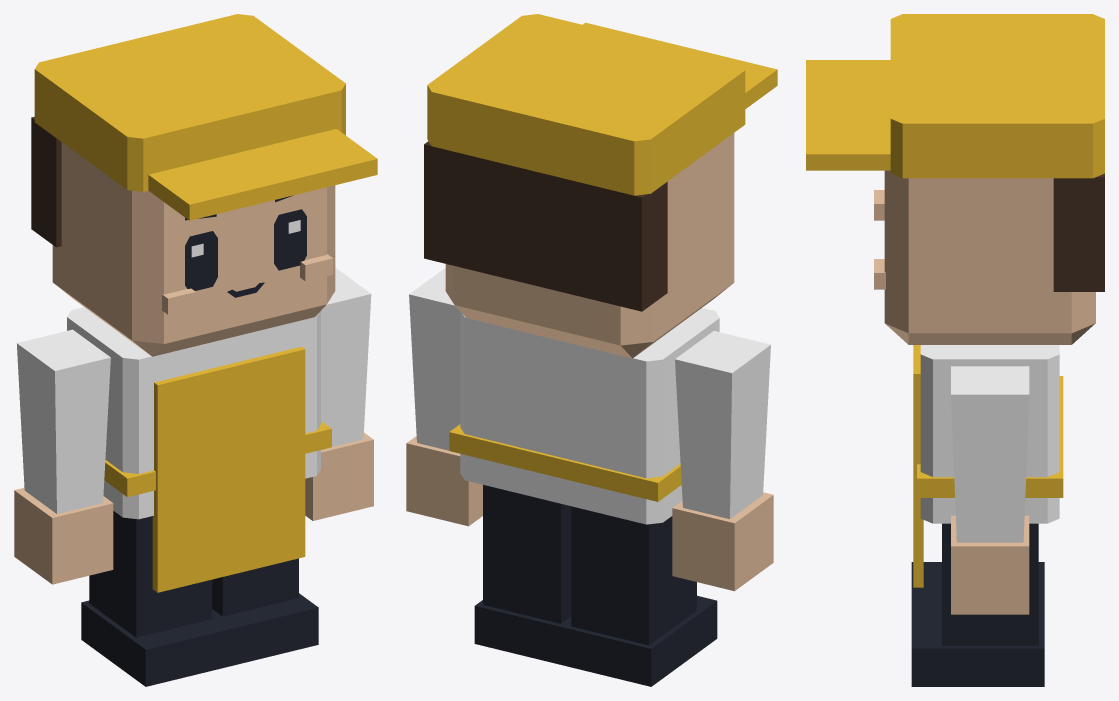
File: staff-barista.glb
The picture shows the model from 3 angles, left to right: view 1: azimuth 30°, elevation 25°; view 2: azimuth 150°, elevation 25°; view 3: azimuth 270°, elevation 25°; orthographic projection. The views are drawn at different scales.
Parts seen in each view (by area): view 1: hair, body, head, arm_R, leg_R, shoe_R, hand_R, arm_L, face, shoe_L, hand_L, leg_L; view 2: hair, body, head, arm_R, leg_R, leg_L, arm_L, hand_R, shoe_R, hand_L, shoe_L; view 3: hair, head, body, arm_L, shoe_L, hand_L, leg_L, shoe_R, face.
Part boxes in pixels (bbox=[...]): hair: bbox=[31, 14, 377, 247]; body: bbox=[67, 307, 331, 592]; head: bbox=[52, 142, 335, 356]; arm_R: bbox=[17, 329, 110, 513]; leg_R: bbox=[89, 511, 212, 637]; shoe_R: bbox=[81, 600, 232, 686]; hand_R: bbox=[14, 488, 113, 584]; arm_L: bbox=[321, 268, 371, 446]; face: bbox=[162, 195, 333, 314]; shoe_L: bbox=[212, 593, 318, 665]; hand_L: bbox=[305, 433, 373, 520]; leg_L: bbox=[212, 558, 298, 616]; hair: bbox=[424, 14, 777, 311]; body: bbox=[449, 308, 719, 524]; head: bbox=[445, 133, 734, 358]; arm_R: bbox=[675, 331, 770, 519]; leg_R: bbox=[571, 506, 696, 645]; leg_L: bbox=[483, 485, 571, 623]; arm_L: bbox=[409, 268, 460, 450]; hand_R: bbox=[672, 492, 773, 591]; shoe_R: bbox=[563, 595, 717, 686]; hand_L: bbox=[406, 436, 482, 526]; shoe_L: bbox=[474, 600, 571, 665]; hair: bbox=[806, 14, 1104, 291]; head: bbox=[884, 170, 1095, 344]; body: bbox=[913, 345, 1063, 587]; arm_L: bbox=[951, 366, 1029, 542]; shoe_L: bbox=[911, 605, 1044, 686]; hand_L: bbox=[951, 515, 1029, 614]; leg_L: bbox=[942, 523, 1038, 645]; shoe_R: bbox=[911, 562, 1044, 605]; face: bbox=[874, 190, 885, 289].
Bounding box in the file's own units: 1.26 × 2.1 × 0.99.
